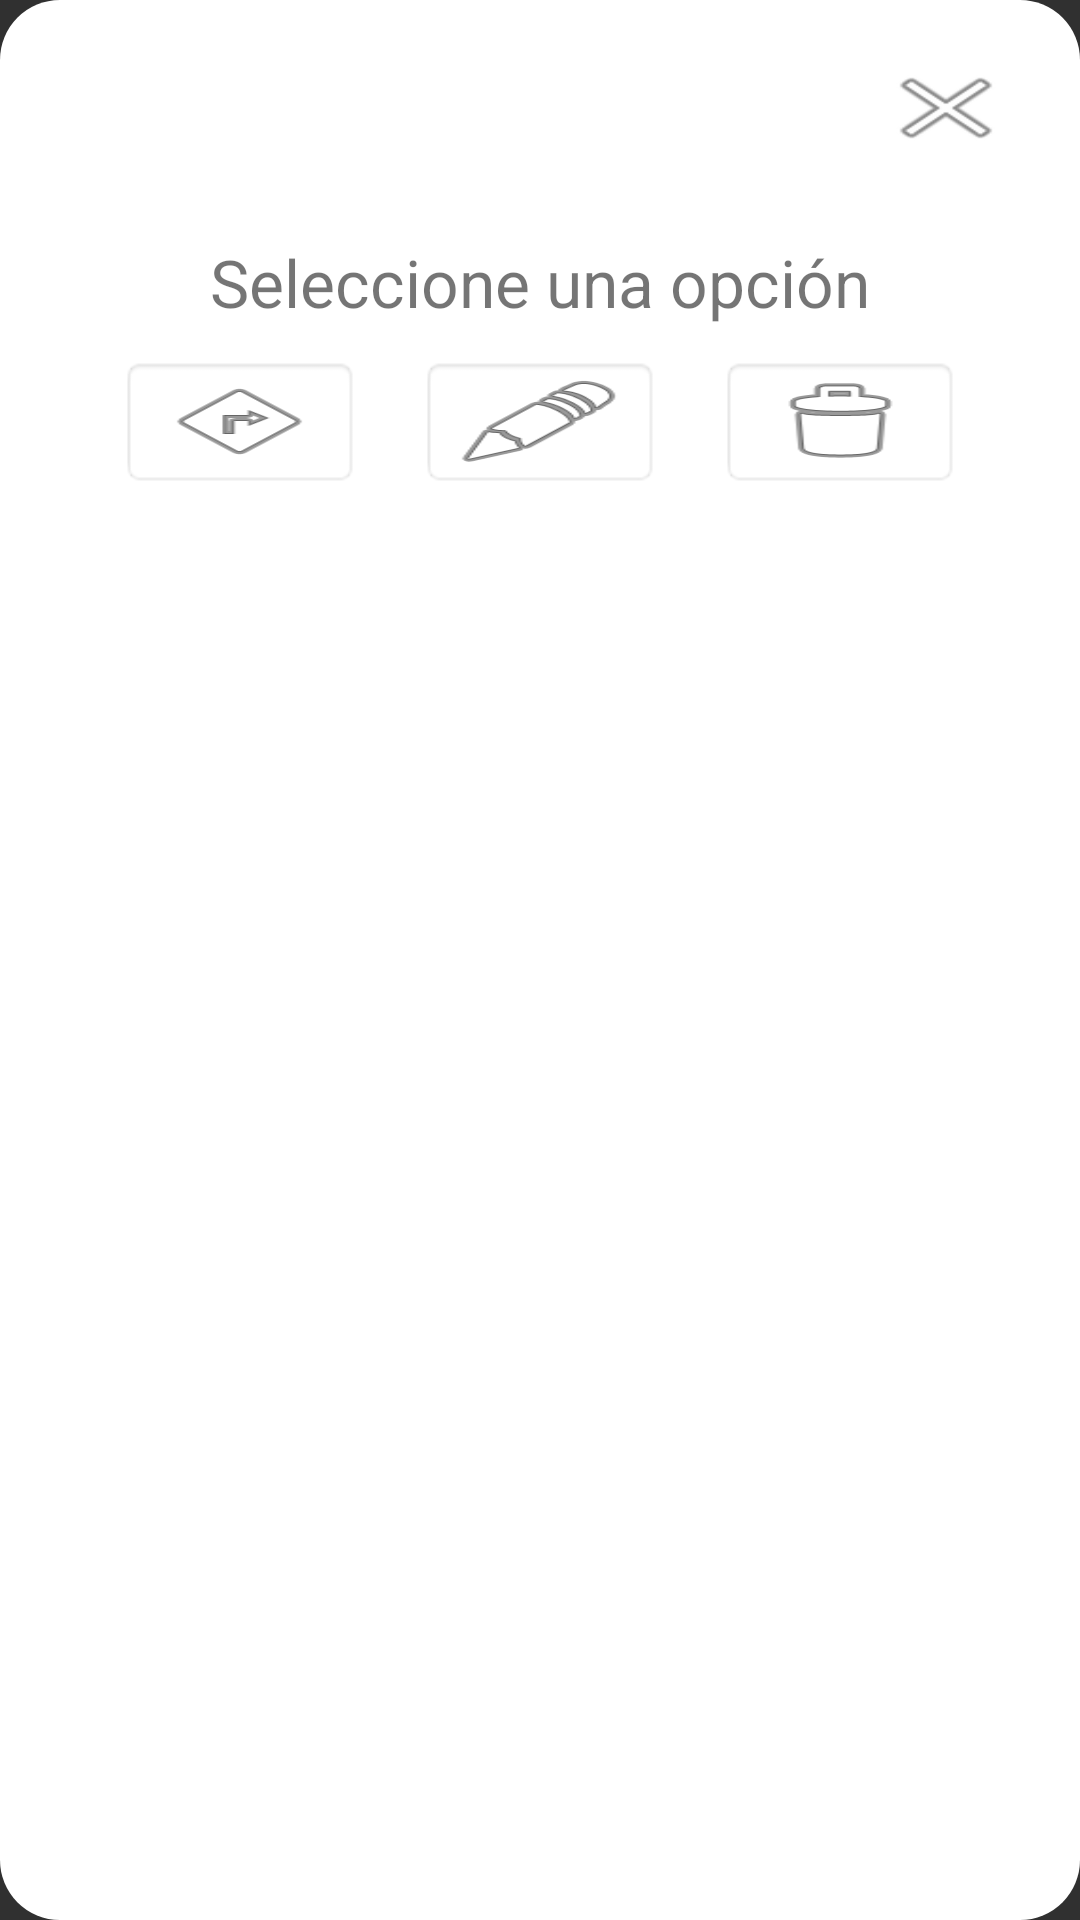

Icons on this 1080x1920 Android screen, each with its box as (x1, y1, x2, y2):
close clear cancel: (900, 78, 992, 138)
delete: (789, 383, 892, 458)
directions: (177, 389, 302, 454)
edit: (462, 381, 615, 462)
